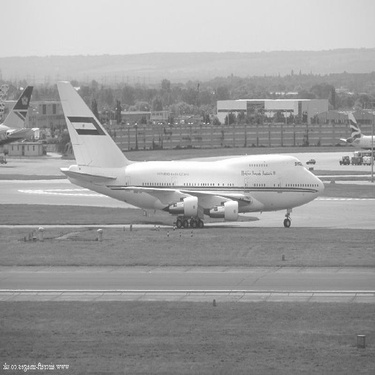airplane: (45, 71, 329, 237), (1, 84, 44, 168), (334, 102, 374, 152)
